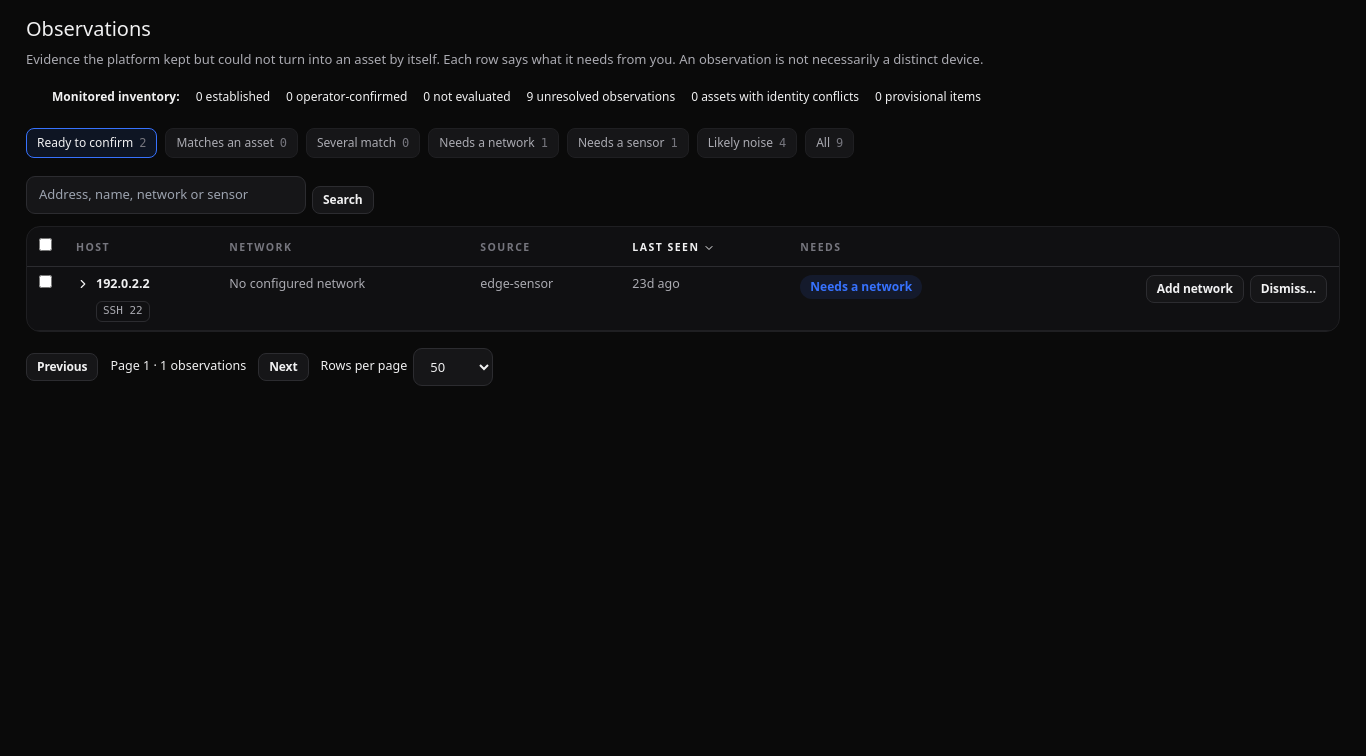
Test: what this needs › sends a row outside every network to Inventory → Networks
Click the button "192.0.2.2": [113, 284] box x1=76 y1=275 x2=150 y2=294
(page scrolled)
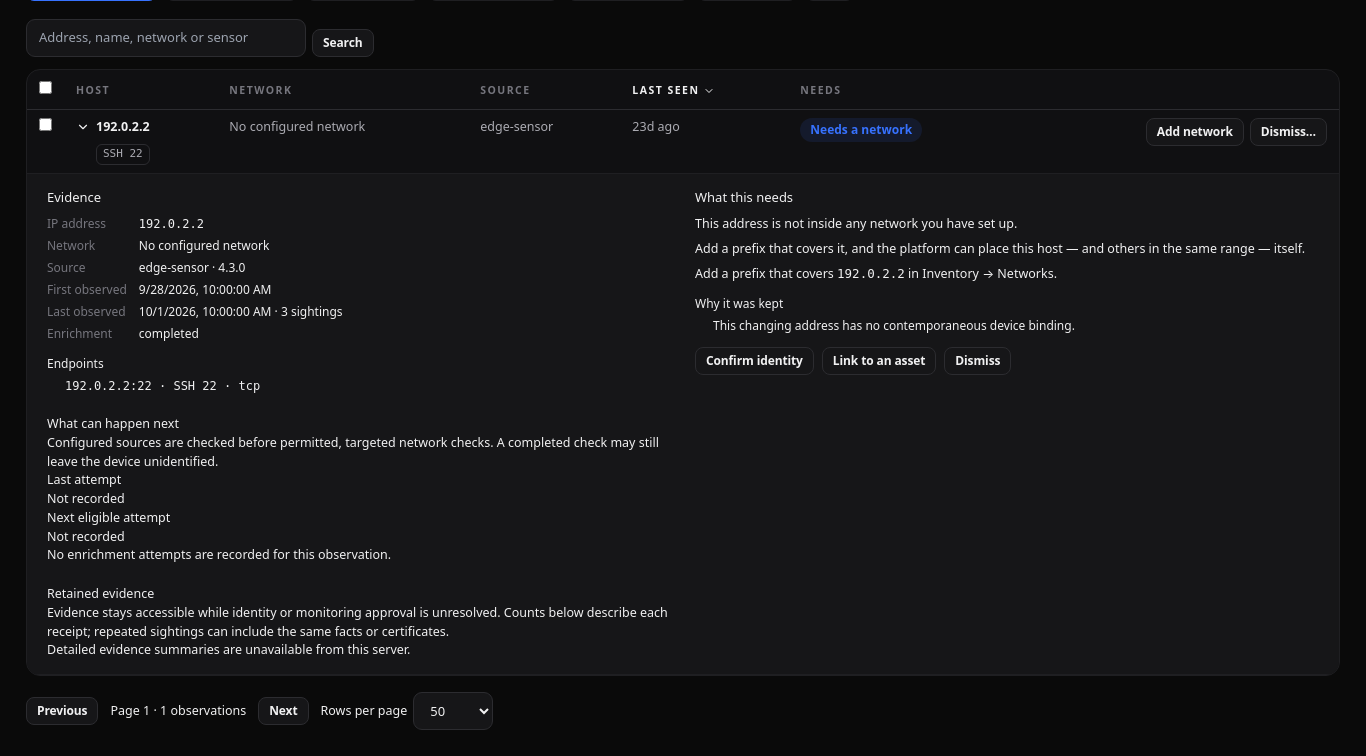
Check: the element named "What this needs" shows "This address is not inside any network you have set up.", box x1=695 y1=215 x2=1017 y2=232
Check: the element named "What this needs" shows "that covers 192.0.2.2", box x1=695 y1=188 x2=1305 y2=375
